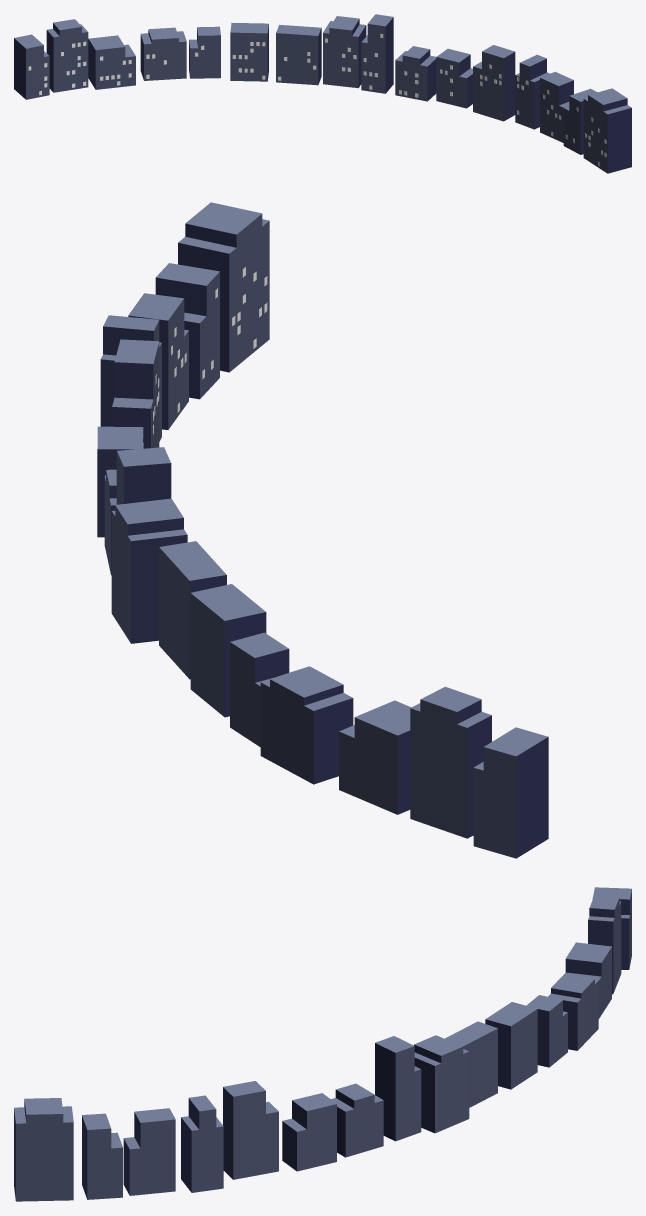
File: Skyline_Far.fbx
The picture shows the model from 3 angles, top to bottom: view 1: azimuth 30°, elevation 25°; view 2: azimuth 150°, elevation 25°; view 3: azimuth 270°, elevation 25°; orthographic projection. The views are drawn at different scales.
Parts seen in each view (by area): view 1: Skyline_Far, Skyline_Far_Windows; view 2: Skyline_Far; view 3: Skyline_Far.
Part boxes in pixels (bbox=[...]): Skyline_Far: bbox=[14, 14, 631, 173]; Skyline_Far_Windows: bbox=[28, 33, 606, 166]; Skyline_Far: bbox=[97, 202, 548, 858]; Skyline_Far: bbox=[14, 887, 631, 1201].
Bounding box in the file's own units: 604 × 101 × 639.
1 material, 1 textured.
